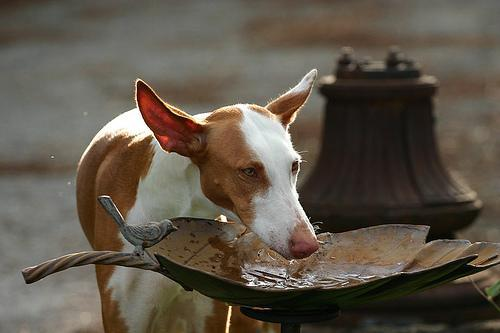Ibizan_hound: (73, 66, 321, 332)
